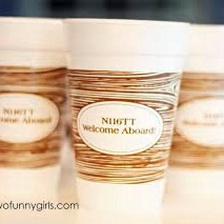paper_cup: (57, 11, 193, 214), (0, 11, 75, 198), (151, 19, 223, 201)
